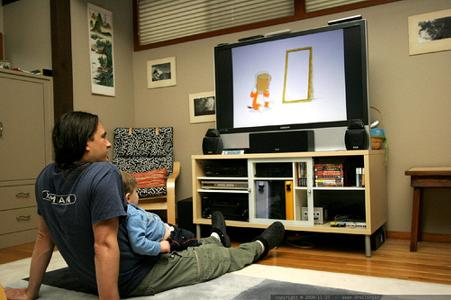person: (3, 111, 286, 300)
